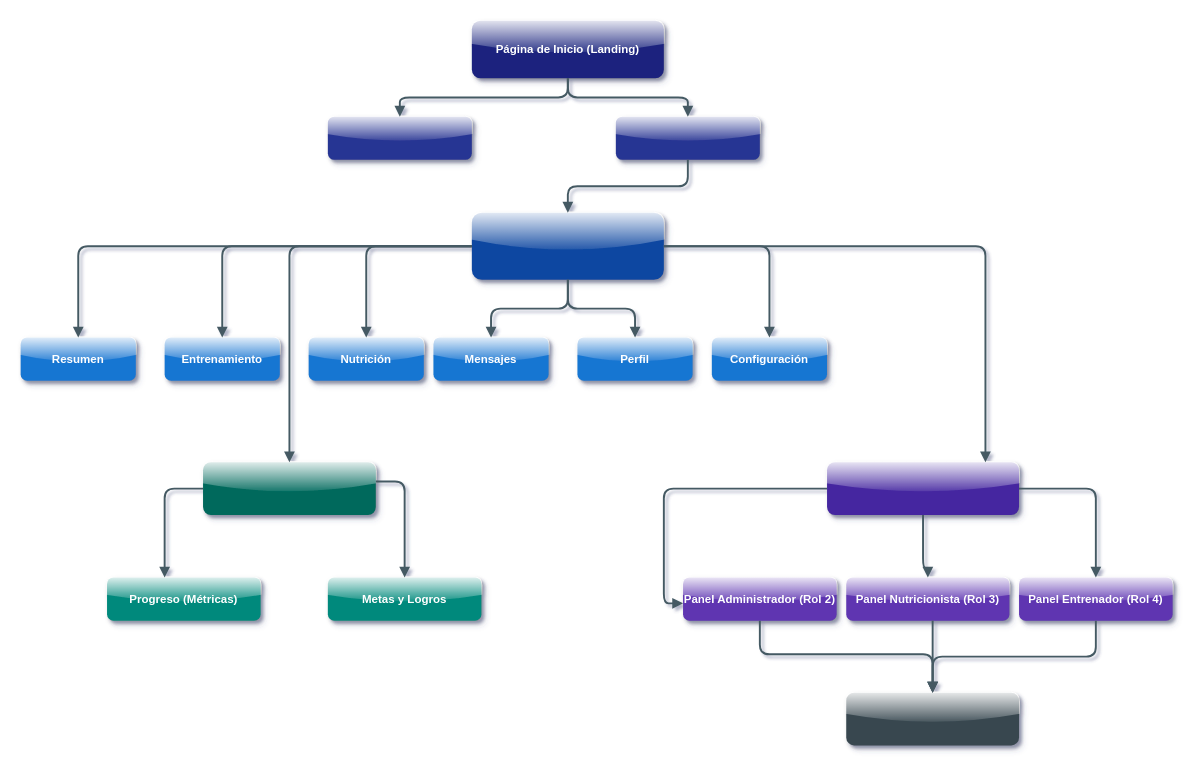
The diagram is 1200 pixels wide and 774 high, and some of its shapes have lost their labels. Each missing label, with the centre of its shape:
"Acceso (Login)" goes at point (688, 139).
"Dashboard (Inicio)" goes at point (568, 247).
"Gestión de Usuarios" goes at point (933, 720).
"Gestión y Administración" goes at point (923, 489).
"Registro de Usuario" goes at point (400, 139).
"Área Personal (Usuario)" goes at point (290, 489).
